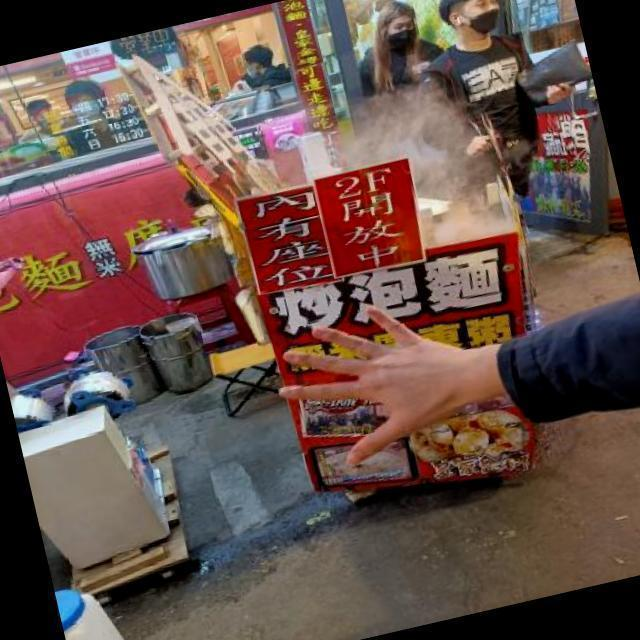bare_hand: (257, 272, 516, 491)
